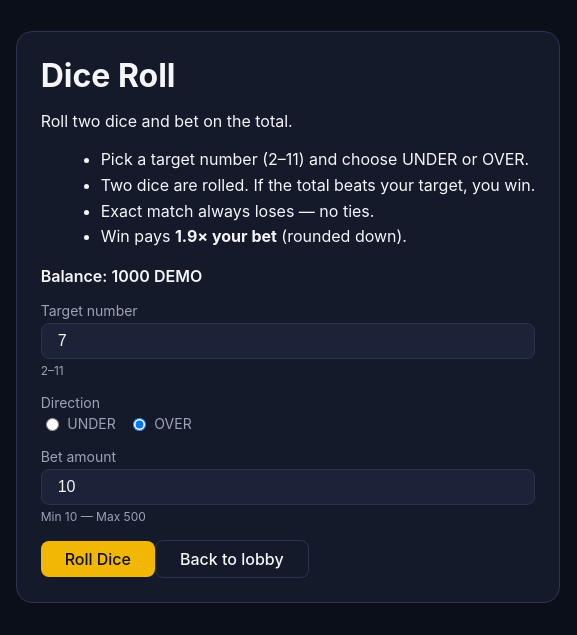
DiceRoll › shows an error when the API rejects the bet
Expected: the heading "Dice Roll" is shown, [41,56,175,95]
Click the button "Roll Dice" at (98, 559), box [41,541,155,577]
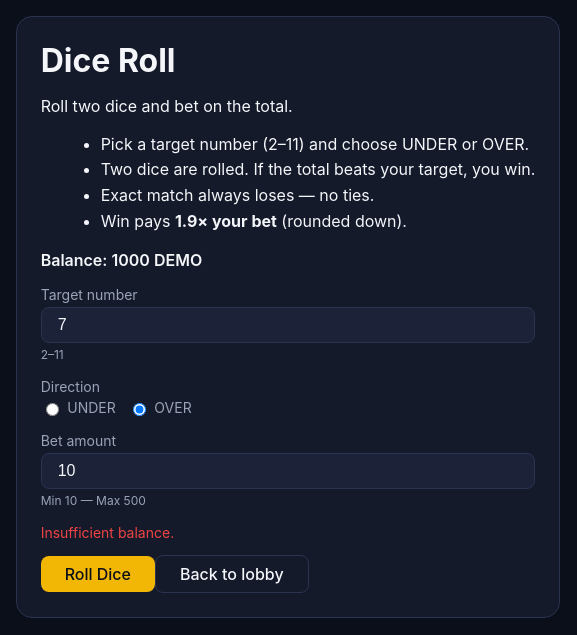
Result: the message reads "Insufficient balance." at [41,524,174,541]
